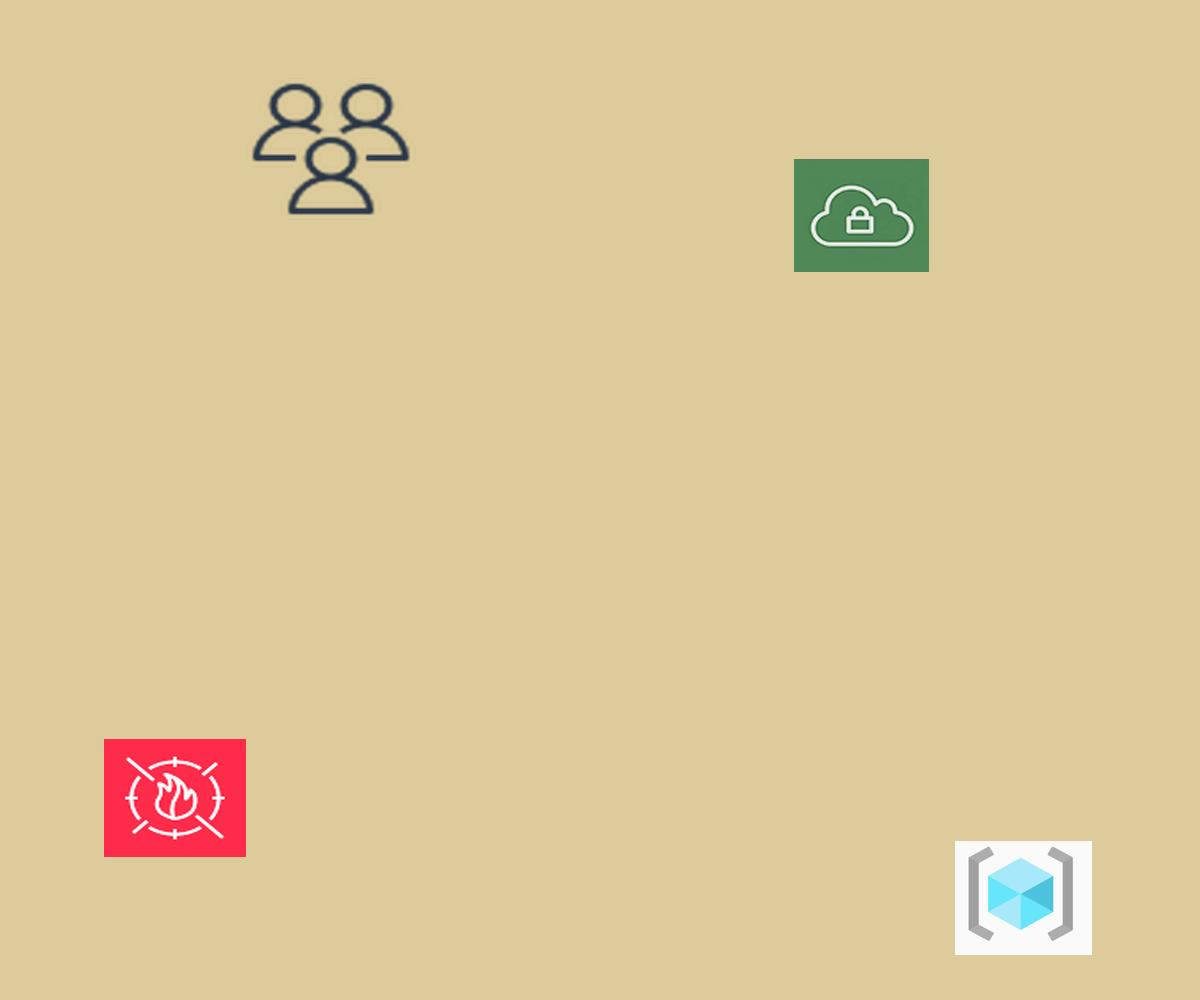AWS-Private_vpc: (794, 159, 929, 272)
AWS-Res_Users: (246, 78, 416, 220)
AWS-WAF: (104, 739, 246, 857)
Azure_resource_group: (955, 841, 1092, 955)
